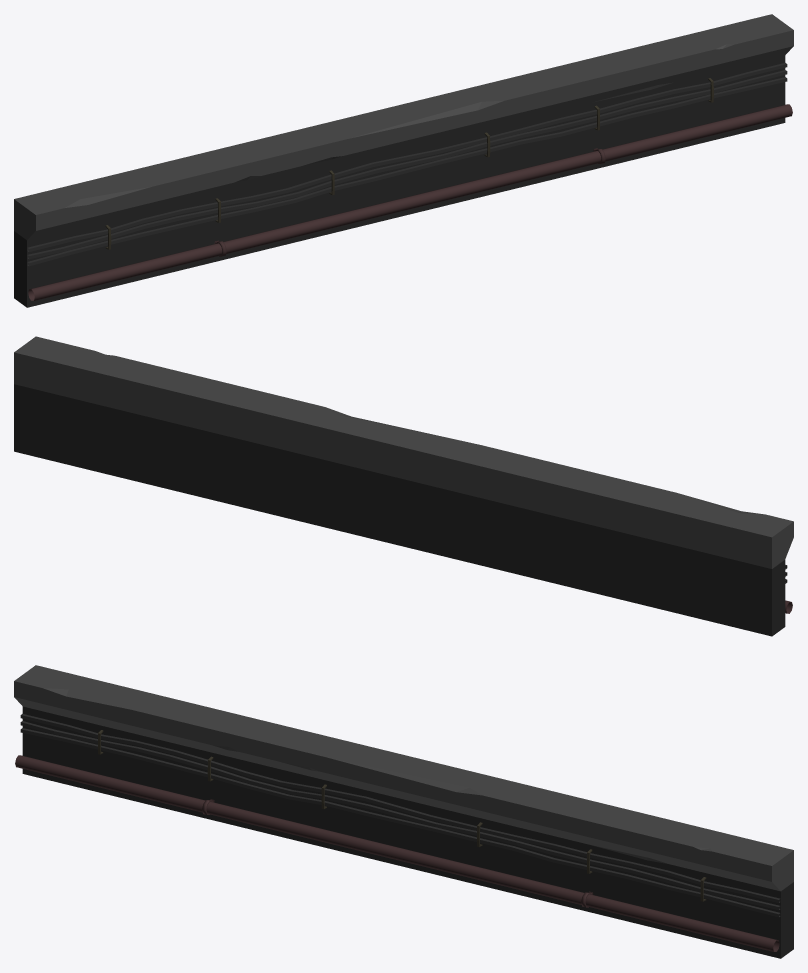
Rendered from SW_ENV_RailTunnel_Wall_Ledge_A_10m_FF.fbx.
3 views of the same model, one above another, from view 1: azimuth 30°, elevation 25°; view 2: azimuth 150°, elevation 25°; view 3: azimuth 330°, elevation 25° (orthographic).
Visible parts, largest first — view 1: SW_ENV_RailTunnel_Wall_Ledge_A_10m_FF; view 2: SW_ENV_RailTunnel_Wall_Ledge_A_10m_FF; view 3: SW_ENV_RailTunnel_Wall_Ledge_A_10m_FF.
Part boxes in pixels (box(x1,y1,x2,y2)): SW_ENV_RailTunnel_Wall_Ledge_A_10m_FF: box(14, 14, 793, 307); SW_ENV_RailTunnel_Wall_Ledge_A_10m_FF: box(14, 336, 793, 636); SW_ENV_RailTunnel_Wall_Ledge_A_10m_FF: box(14, 665, 793, 958).
Bounding box in the file's own units: 10 × 1.25 × 0.5.
